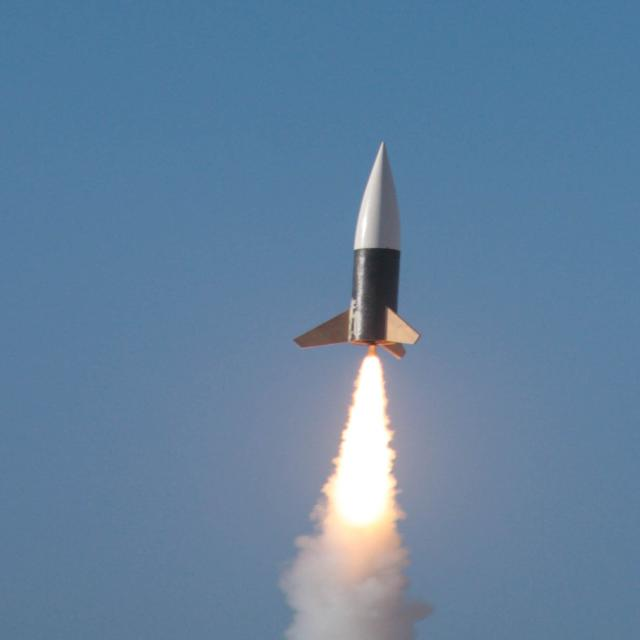Rocket: (293, 140, 423, 361)
